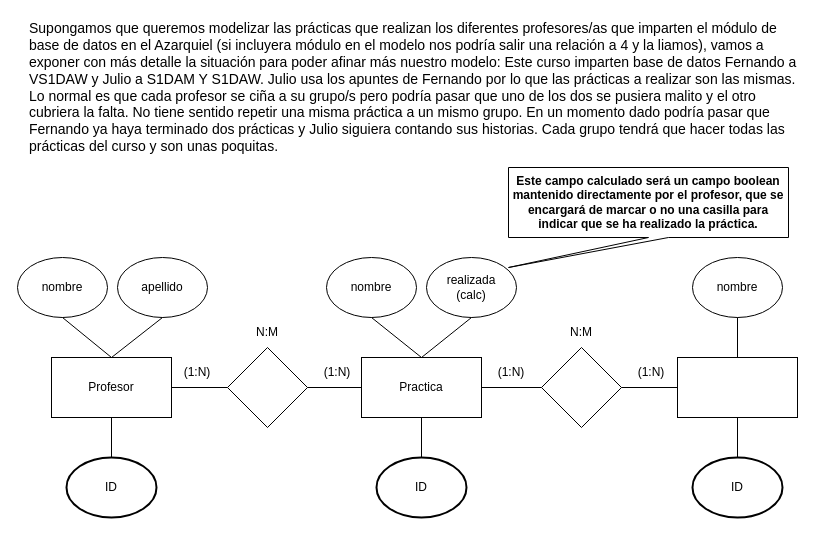
Image size: 815x535. Some labels were removed from this diagram. The shapes that lost their labels are listed below. From the top down, each one's centre as x and y in pixels, then its label:
At pixel 267 387: "imparte".
At pixel 581 387: "realiza".
At pixel 737 387: "Grupo".
